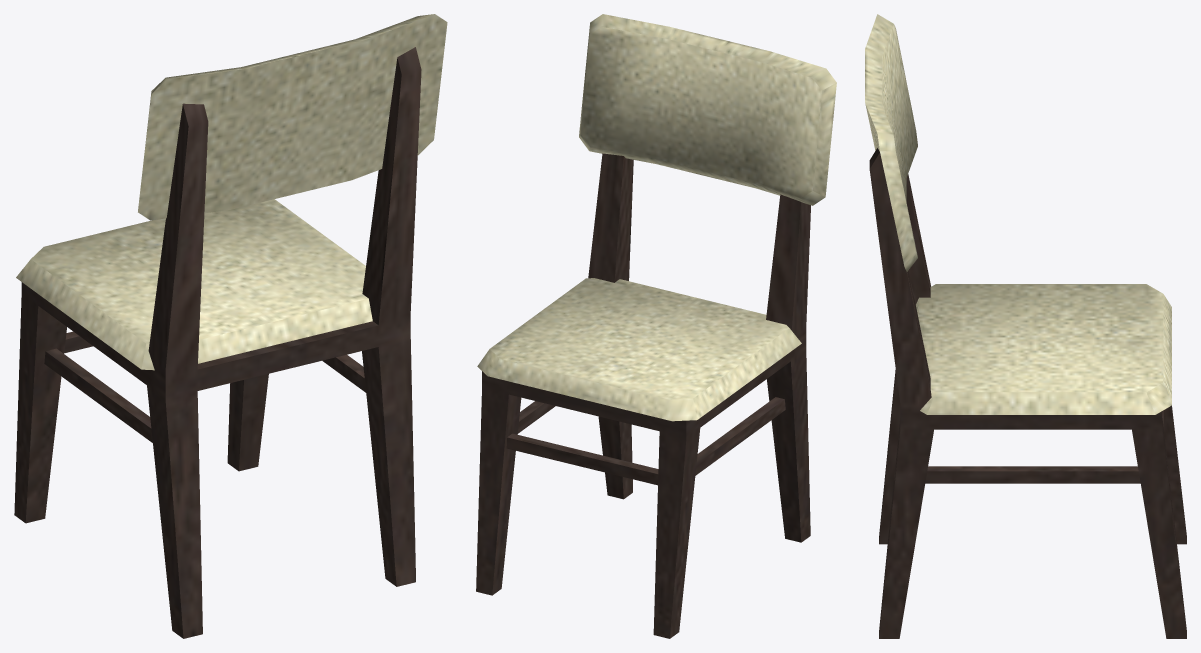
Rendered from Chair_05-col.glb.
3 views of the same model, side by side, from view 1: azimuth 30°, elevation 25°; view 2: azimuth 150°, elevation 25°; view 3: azimuth 270°, elevation 25° (orthographic). The views are drawn at different scales.
Visible parts, largest first — view 1: Chair_05-col; view 2: Chair_05-col; view 3: Chair_05-col.
Boxes of the visible parts, x1,y1,x2,y2 form: Chair_05-col: (14, 14, 447, 638); Chair_05-col: (476, 14, 836, 638); Chair_05-col: (865, 14, 1186, 638).
Bounding box in the file's own units: 0.5749 × 1.05 × 0.5943.
1 material, 1 textured.
